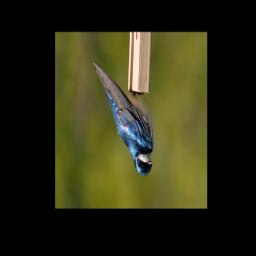Swallow: (92, 55, 156, 182)
